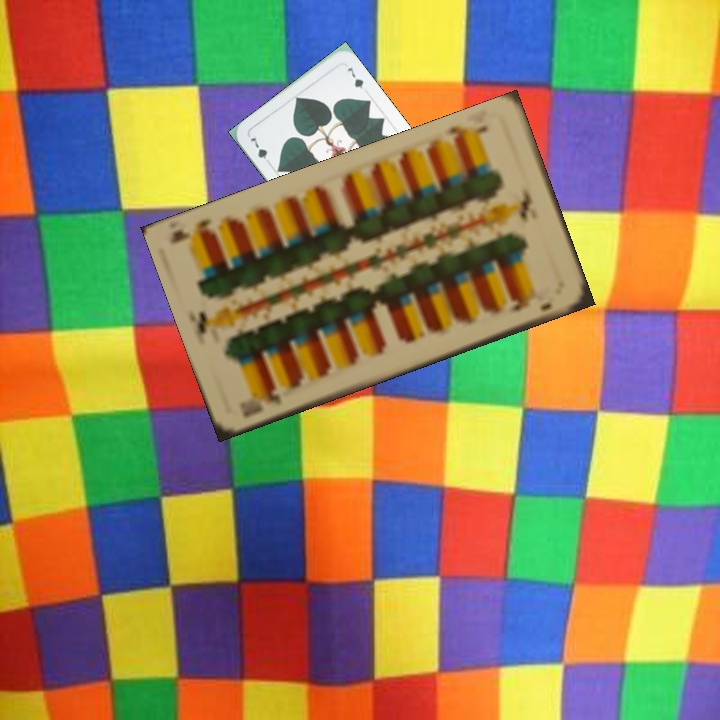E10: (238, 384, 284, 420), (441, 122, 491, 143)
G7: (246, 134, 274, 169)
